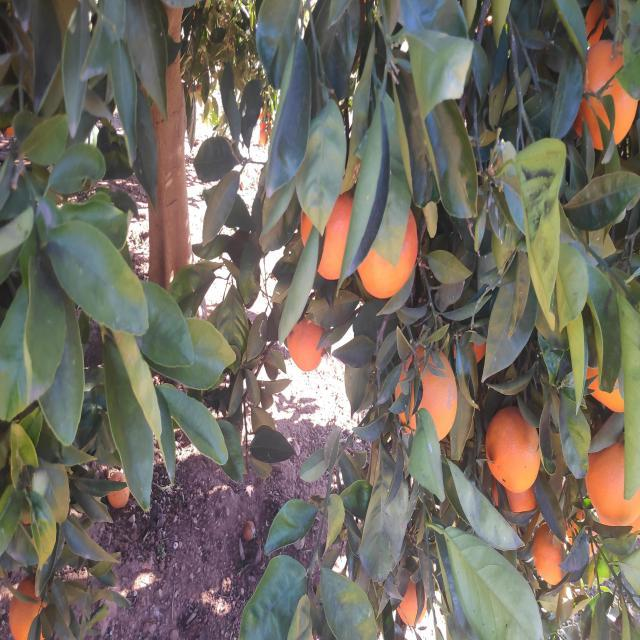Jeruk Sudah Matang: (574, 42, 638, 146), (398, 348, 460, 448), (358, 206, 420, 298), (484, 404, 540, 492), (299, 191, 354, 279), (585, 445, 640, 526), (490, 484, 538, 534), (9, 579, 47, 640), (286, 320, 326, 373), (532, 526, 566, 584), (584, 366, 624, 412), (394, 574, 426, 630), (584, 0, 614, 42), (108, 472, 130, 507)
